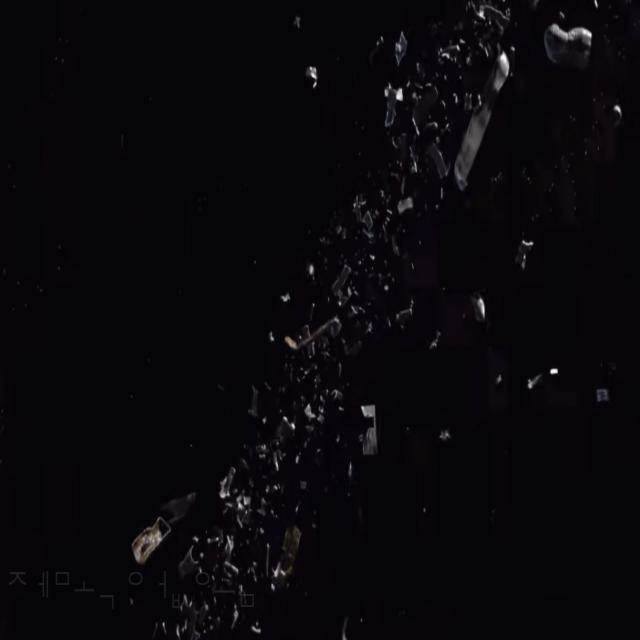large_debris: (446, 43, 516, 198), (538, 15, 594, 84), (123, 509, 180, 576), (278, 306, 348, 353), (355, 394, 380, 471), (509, 233, 536, 274)
